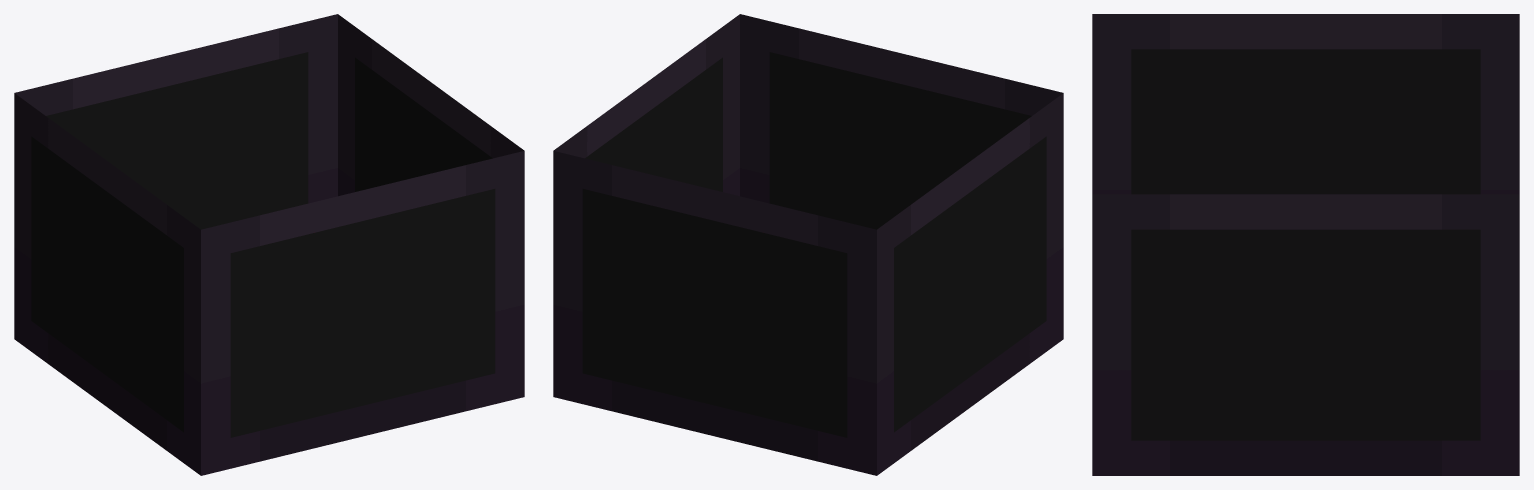
File: terrarium_ominous_glass.obj
3 views of the same model, side by side, from view 1: azimuth 30°, elevation 25°; view 2: azimuth 150°, elevation 25°; view 3: azimuth 270°, elevation 25° (orthographic). The views are drawn at different scales.
Visible parts, largest first — view 1: TERRARIUM_GLASS_SHORT_DARK_Cube.031; view 2: TERRARIUM_GLASS_SHORT_DARK_Cube.031; view 3: TERRARIUM_GLASS_SHORT_DARK_Cube.031.
Part boxes in pixels (x1,y1,x2,y2): TERRARIUM_GLASS_SHORT_DARK_Cube.031: (14, 14, 524, 475); TERRARIUM_GLASS_SHORT_DARK_Cube.031: (553, 14, 1063, 475); TERRARIUM_GLASS_SHORT_DARK_Cube.031: (1092, 14, 1519, 475).
Bounding box in the file's own units: 0.6875 × 0.5 × 0.6875.
